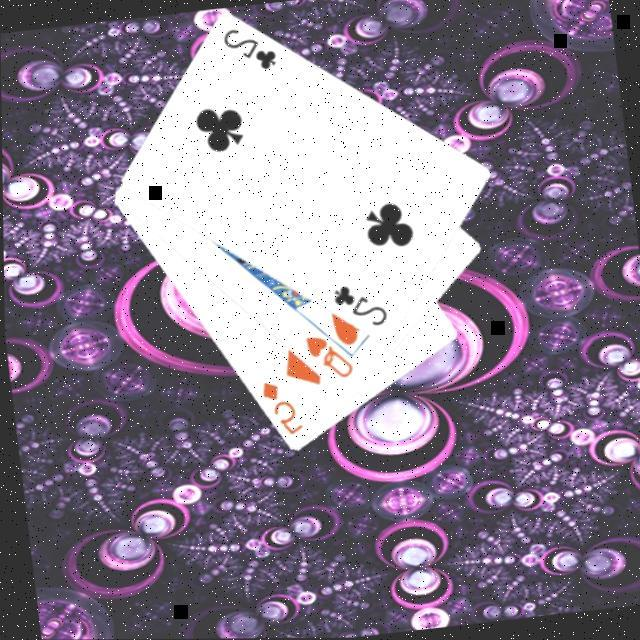2C: (217, 18, 280, 76), (326, 276, 390, 332)
5D: (254, 373, 305, 439)
QH: (298, 327, 354, 384)
